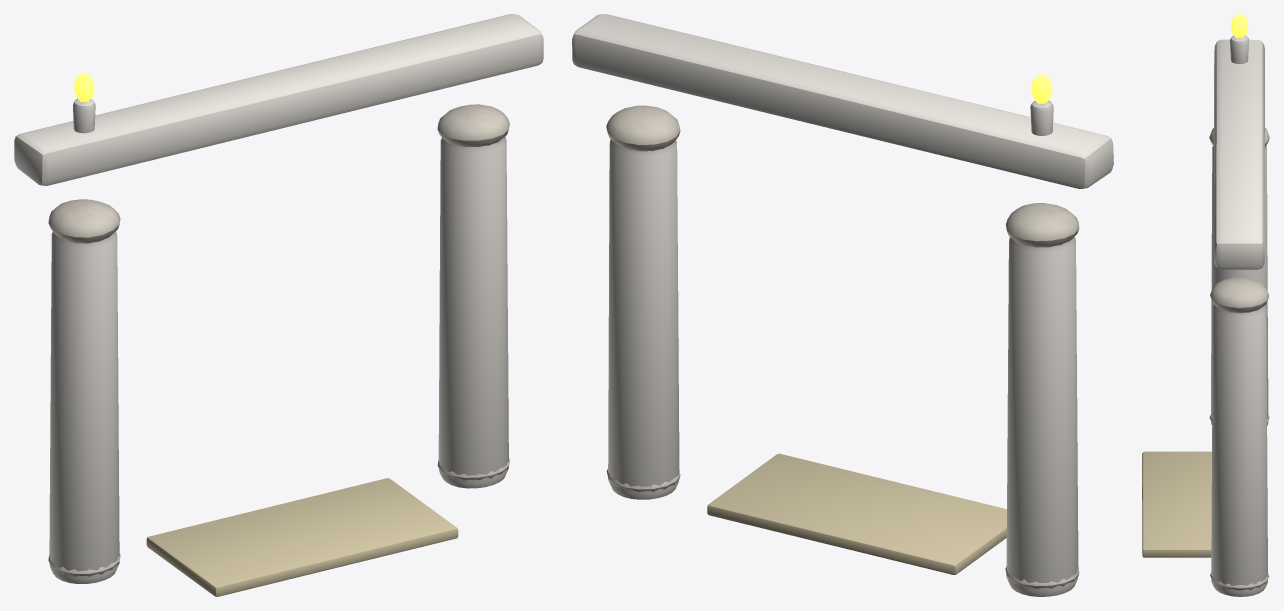
3 views of the same model, side by side, from view 1: azimuth 30°, elevation 25°; view 2: azimuth 150°, elevation 25°; view 3: azimuth 270°, elevation 25° (orthographic). The views are drawn at different scales.
Parts seen in each view (by area): view 1: gate_7642648b; view 2: gate_7642648b; view 3: gate_7642648b.
Part boxes in pixels (box(x1,y1,x2,y2)): gate_7642648b: box(14, 14, 543, 596); gate_7642648b: box(572, 14, 1113, 596); gate_7642648b: box(1142, 14, 1269, 596).
Size of the model in its own units: 4.99 by 4.71 by 1.31.
